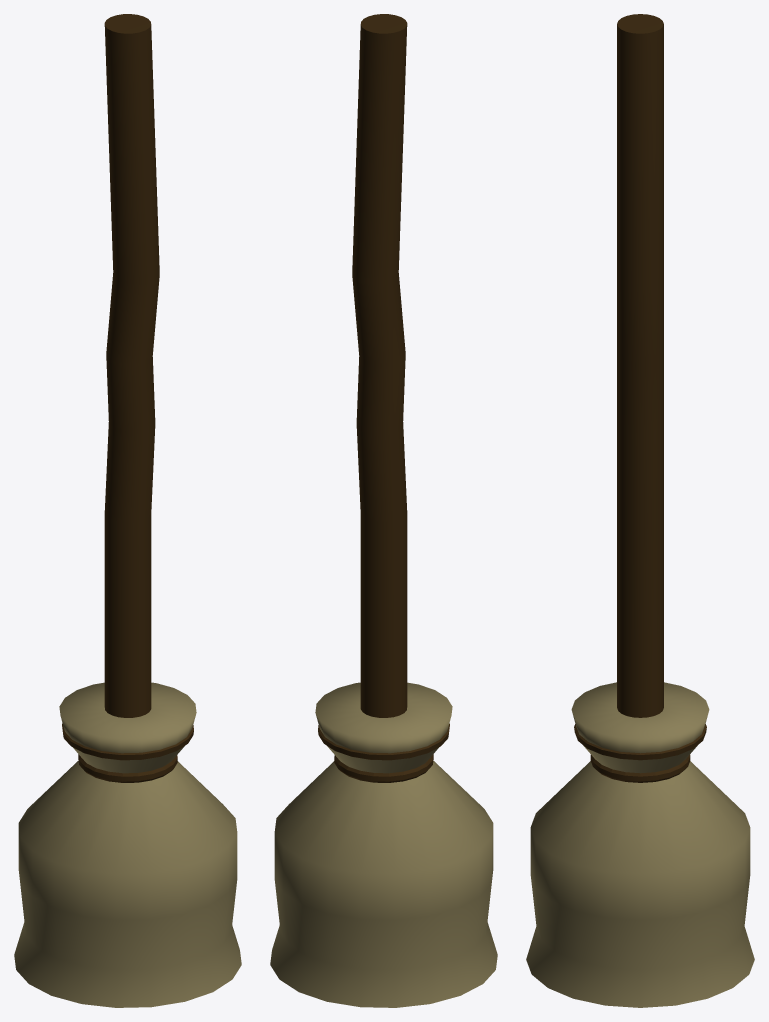
Rendered from broom 1.fbx.
3 renders of one model, left to right at view 1: azimuth 30°, elevation 25°; view 2: azimuth 150°, elevation 25°; view 3: azimuth 270°, elevation 25°, orthographic.
Visible parts, largest first — view 1: broom; view 2: broom; view 3: broom.
Part boxes in pixels (x1=…): broom: x1=14, y1=14, x2=241, y2=1007; broom: x1=270, y1=14, x2=497, y2=1007; broom: x1=526, y1=14, x2=754, y2=1007.
Size of the model in its own units: 0.886 by 4 by 0.886.
